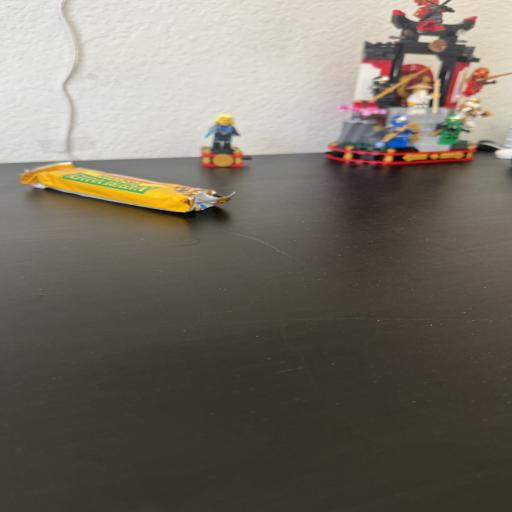granola: (21, 163, 234, 212)
